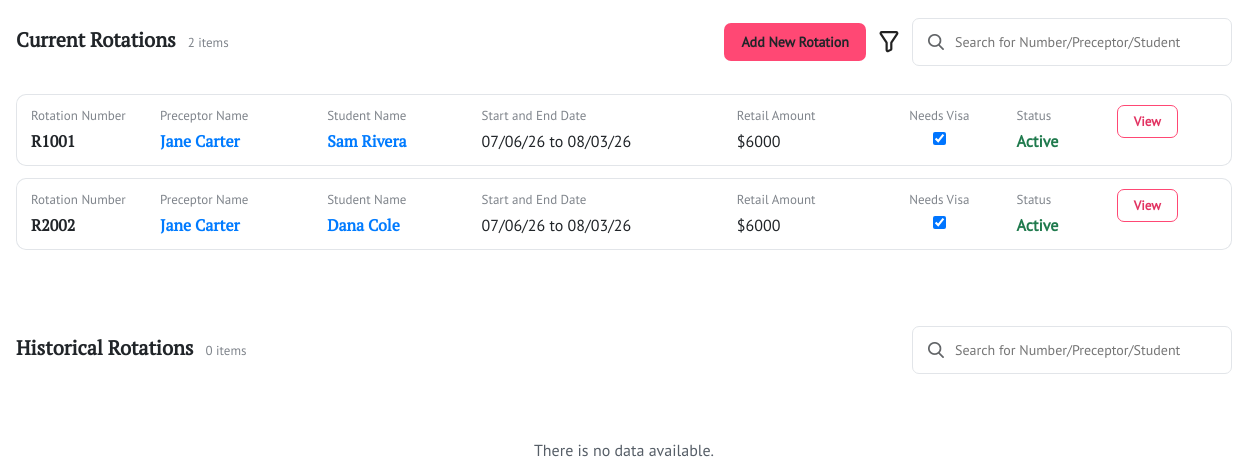
Test: RotationsPage › searches a section server-side via its own debounced box (carrying the scope)
Check: the text "Dana Cole" is shown, box x1=327 y1=214 x2=400 y2=236
Type "R1001" into the field named "Search current rotations".
click(1072, 42); type("R1001")  # box x1=912 y1=18 x2=1232 y2=66
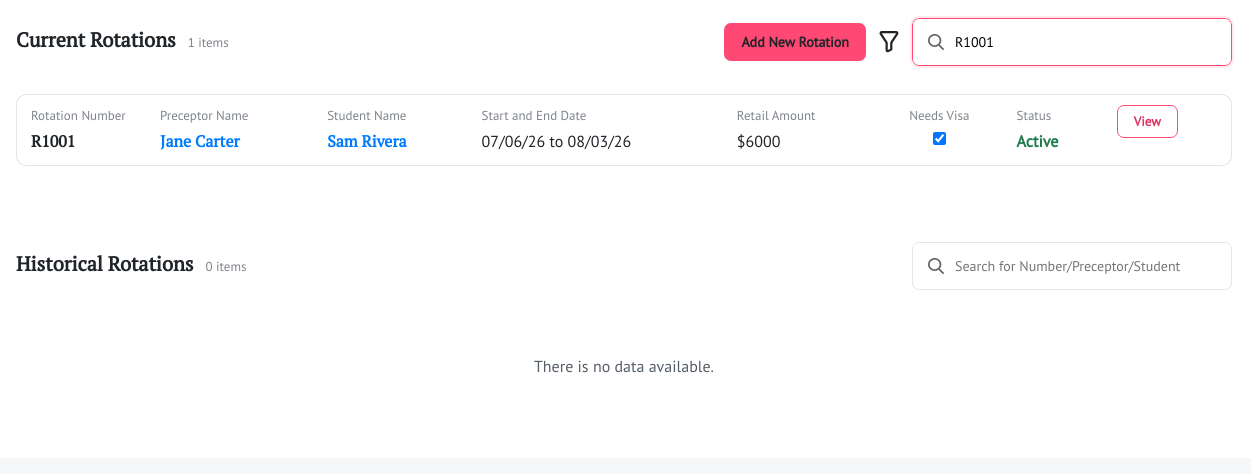
Check: the text "Dana Cole" is gone
